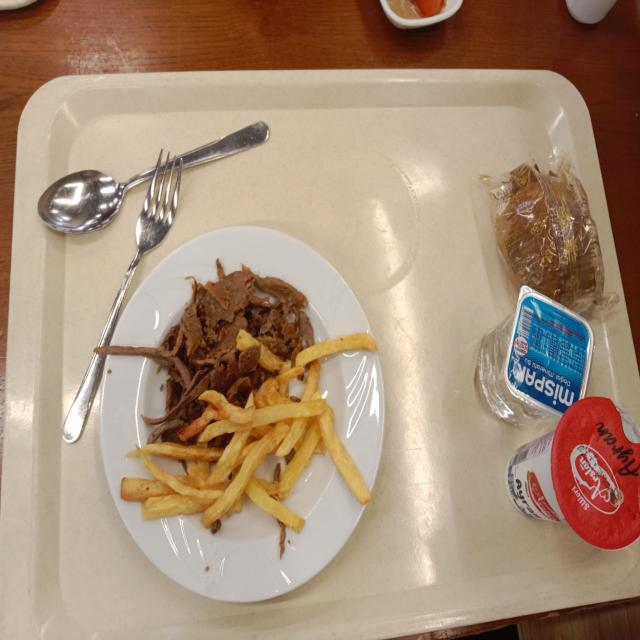ana_yemek: (99, 226, 376, 600)
yan_yemek: (378, 1, 464, 30)
